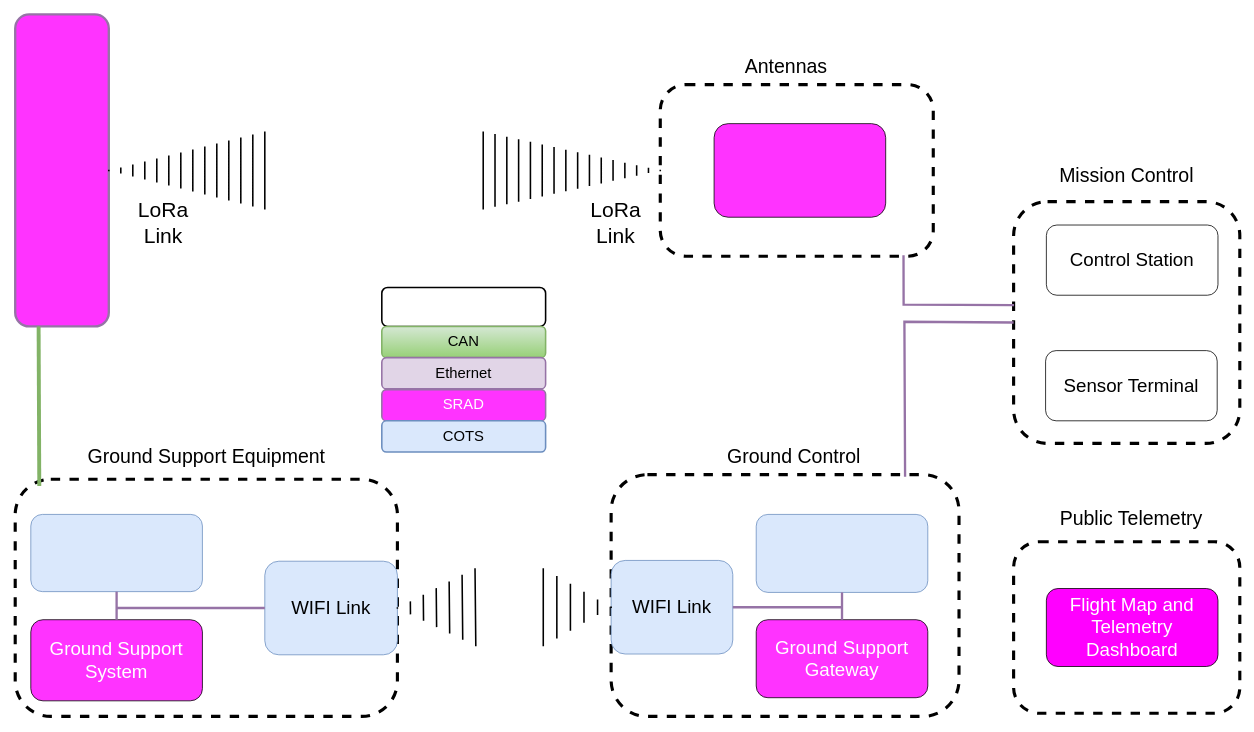
Image size: 1254x732. Some labels were removed from this diagram. The shapes that lost their labels are listed below. From the top down, each one's centre as x and y in pixels, then its label:
At point (62, 170): "Rocket - Nimbus 24".
At point (799, 170): "Rocket Gateway".
At point (463, 306): "Legend".
At point (116, 553): "Cameras".
At point (841, 553): "Internet Uplink (Starlink)".
